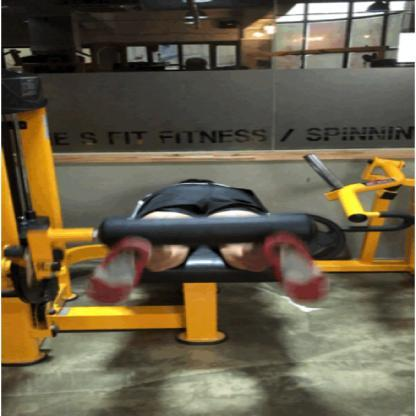reg curl machine: (0, 64, 351, 374)
